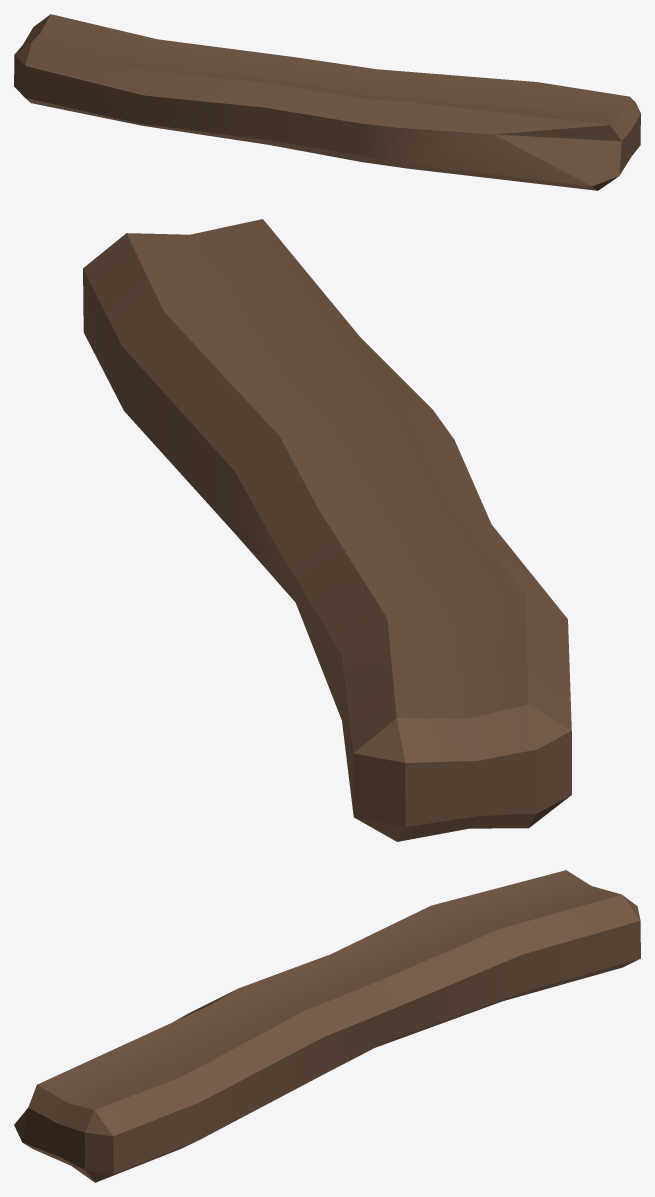
Rendered from invwood2.fbx.
3 views of the same model, one above another, from view 1: azimuth 30°, elevation 25°; view 2: azimuth 150°, elevation 25°; view 3: azimuth 270°, elevation 25° (orthographic). The views are drawn at different scales.
Visible parts, largest first — view 1: pCube34.002; view 2: pCube34.002; view 3: pCube34.002.
Part boxes in pixels (bbox=[...]): pCube34.002: bbox=[14, 14, 640, 190]; pCube34.002: bbox=[83, 219, 571, 841]; pCube34.002: bbox=[14, 870, 640, 1182].
Bounding box in the file's own units: 0.412 × 0.0633 × 0.4404.
